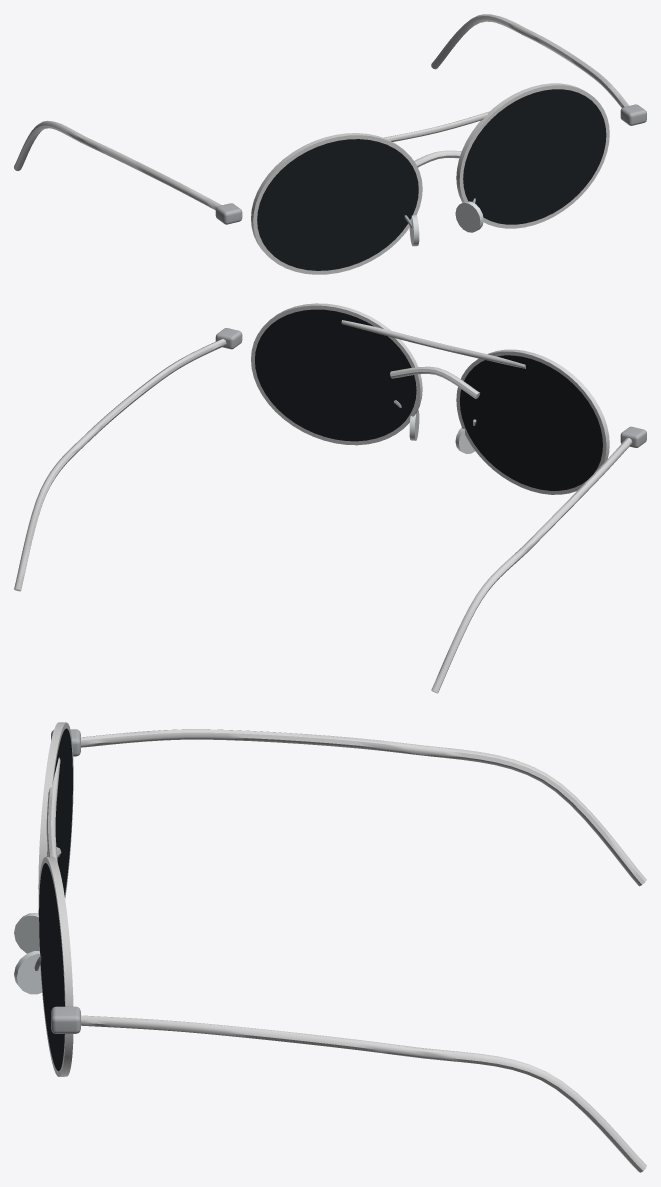
The model's file is SM_Glasses_Wire.glb.
3 renders of one model, top to bottom at view 1: azimuth 30°, elevation 25°; view 2: azimuth 150°, elevation 25°; view 3: azimuth 270°, elevation 25°, orthographic. The views are drawn at different scales.
Visible parts, largest first — view 1: SM_Glasses_Wire; view 2: SM_Glasses_Wire; view 3: SM_Glasses_Wire.
Boxes of the visible parts, x1,y1,x2,y2 form: SM_Glasses_Wire: [14, 14, 646, 274]; SM_Glasses_Wire: [14, 303, 646, 693]; SM_Glasses_Wire: [14, 722, 646, 1172].
Size of the model in its own units: 0.1463 by 0.0499 by 0.1273.
Materials: 4 (4 with a texture image).
